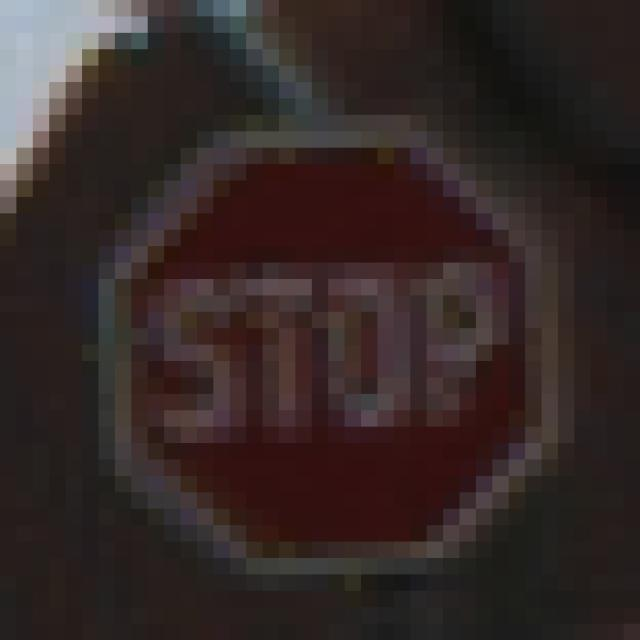STOP: (83, 100, 543, 543)
